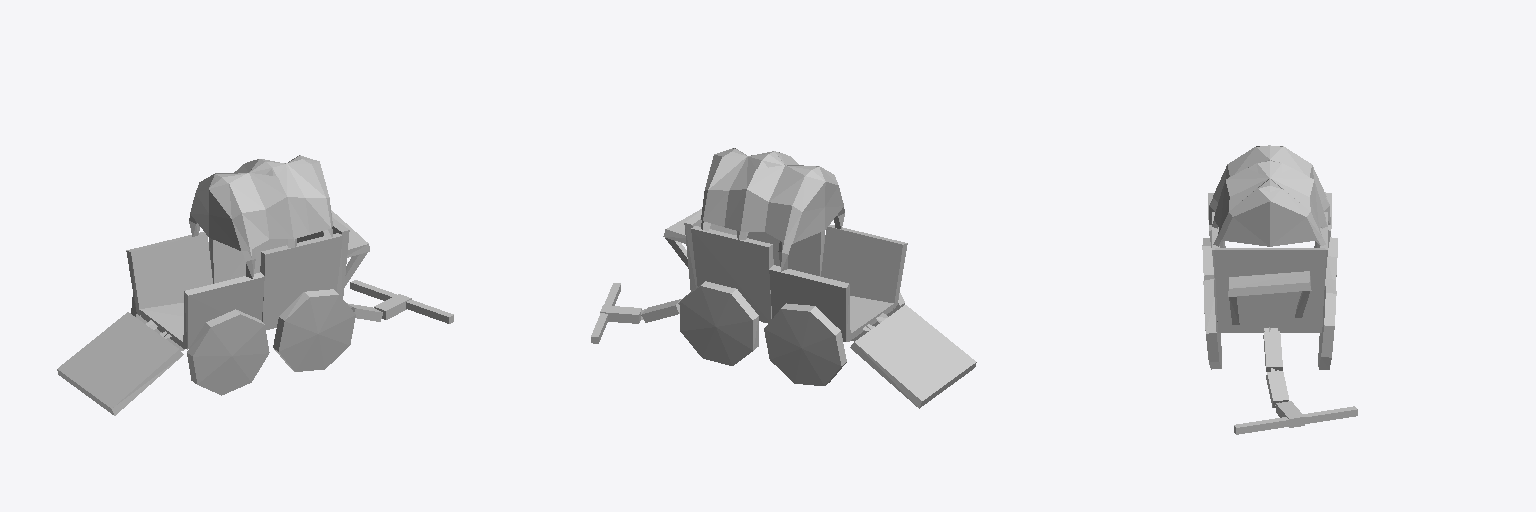
Rendered from plaguewagon02.obj.
3 renders of one model, left to right at view 1: azimuth 30°, elevation 25°; view 2: azimuth 150°, elevation 25°; view 3: azimuth 270°, elevation 25°, orthographic.
Parts seen in each view (by area): view 1: plaguewagon02; view 2: plaguewagon02; view 3: plaguewagon02.
Boxes of the visible parts, <box> form: plaguewagon02: <box>57,155,453,415</box>; plaguewagon02: <box>591,148,976,408</box>; plaguewagon02: <box>1202,145,1357,434</box>.
Bounding box in the file's own units: 9.54 × 5.01 × 3.63.